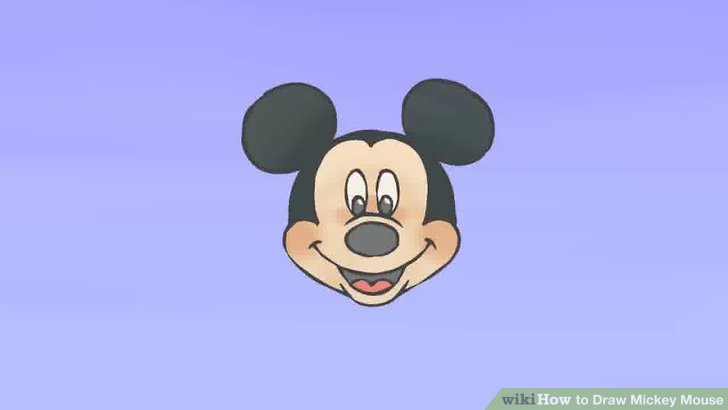Mickey: (237, 76, 497, 309)
